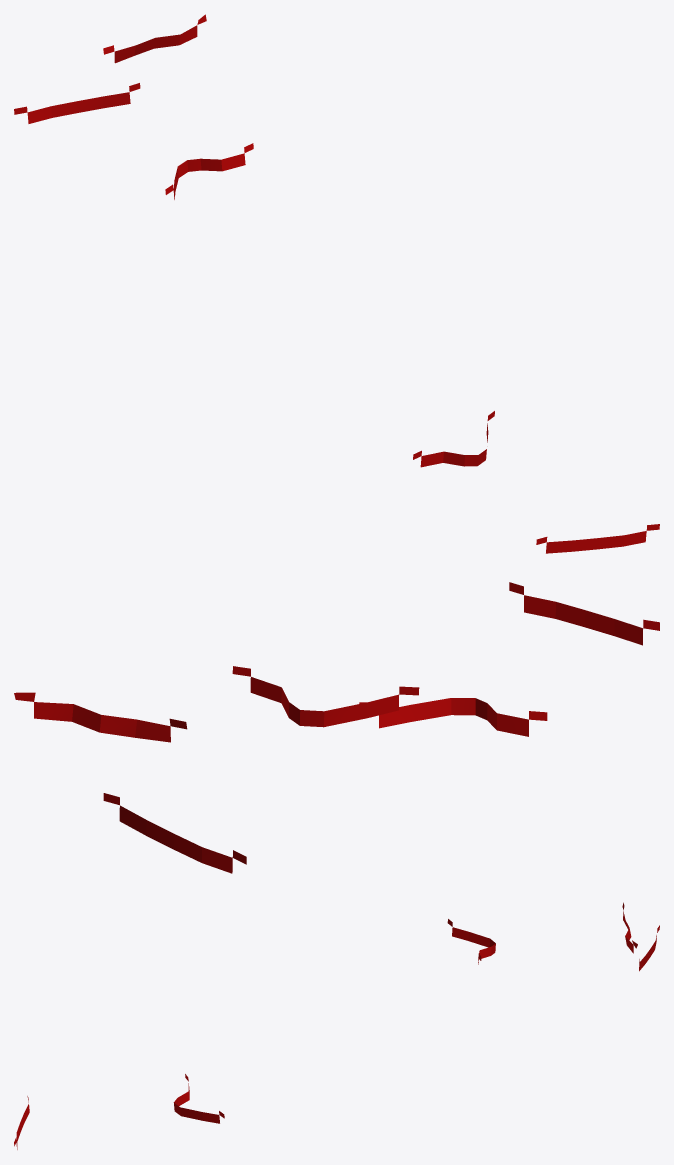
File: BridgeBrokenEdge.obj
The picture shows the model from 3 angles, top to bottom: view 1: azimuth 30°, elevation 25°; view 2: azimuth 150°, elevation 25°; view 3: azimuth 270°, elevation 25°; orthographic projection. The views are drawn at different scales.
Visible parts, largest first — view 1: BridgeBrokenEdge; view 2: BridgeBrokenEdge; view 3: BridgeBrokenEdge.
Boxes of the visible parts, left/top/right/bottom form: BridgeBrokenEdge: left=14, top=14, right=659, bottom=553; BridgeBrokenEdge: left=14, top=582, right=659, bottom=873; BridgeBrokenEdge: left=14, top=902, right=659, bottom=1149.
Size of the model in its own units: 10.32 by 10.51 by 32.19.
